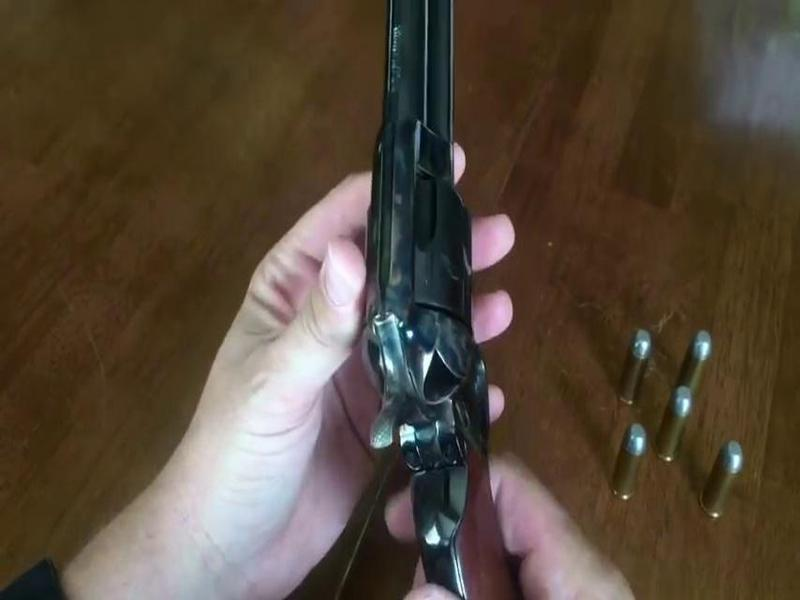Revolver: (324, 6, 532, 587)
